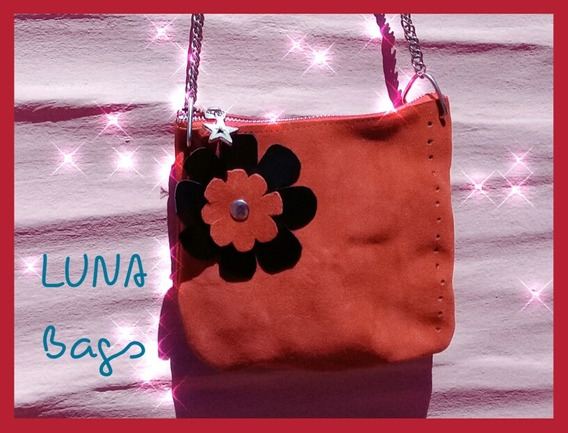cartera: (170, 11, 458, 369)
